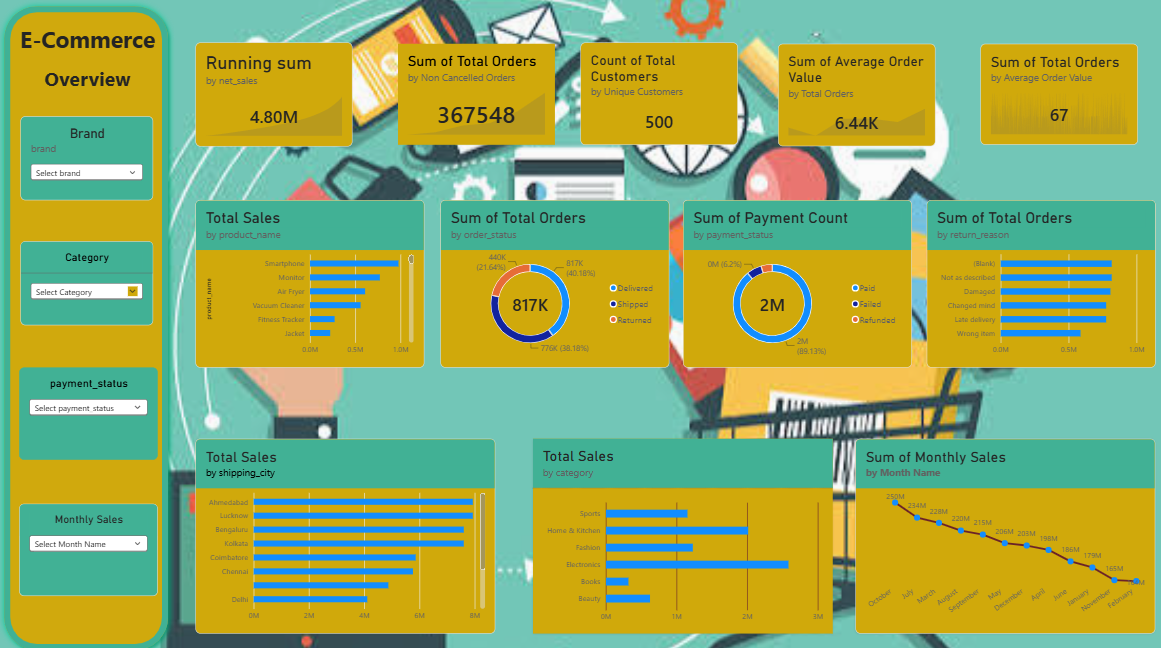

This screenshot's page, from the dashboard's own definition file:
{"tool":"powerbi","page":{"name":"Page 1","canvas":[1920,1080],"ordinal":0},"visuals":[{"type":"shape","box":[0,0,290.2,1080.6],"z":0},{"type":"kpi","fields":{"Indicator":["OrderItems.Total Sales","select"],"TrendLine":["OrderItems.net_sales"]},"box":[326,70,258.7,171],"z":1000},{"type":"kpi","fields":{"Indicator":["Sum(OrderItems.Total Orders)"],"TrendLine":["OrderItems.Non Cancelled Orders"]},"box":[658,72,258,166],"z":2000},{"type":"kpi","fields":{"Indicator":["CountNonNull(Customers.Total Customers)"],"TrendLine":["Customers.Unique Customers"]},"box":[960,70,259.3,168.8],"z":3000},{"type":"kpi","fields":{"Indicator":["Sum(OrderItems.Average Order Value)"],"TrendLine":["OrderItems.Total Orders"]},"box":[1284,72,259.3,168.8],"z":4000},{"type":"kpi","fields":{"Indicator":["Sum(OrderItems.Total Orders)"],"TrendLine":["OrderItems.Average Order Value"]},"box":[1617.5,72.5,259.3,166.7],"z":5000},{"type":"lineChart","fields":{"Category":["Orders.Month Name"],"Y":["Sum(Orders.Monthly Sales)"]},"box":[1412,722.5,494,321.1],"z":6000},{"type":"clusteredBarChart","fields":{"Category":["Ecommerce_Analysis_Dataset 1(Products).category"],"Y":["OrderItems.Total Sales"]},"box":[881,722.5,494,321.1],"z":7000},{"type":"clusteredBarChart","fields":{"Category":["Data_Quality_Practice.shipping_city"],"Y":["OrderItems.Total Sales"]},"box":[325.2,722.5,494,321.1],"z":8000},{"type":"clusteredBarChart","fields":{"Category":["Ecommerce_Analysis_Dataset 1(Products).product_name"],"Y":["OrderItems.Total Sales"]},"box":[325.2,329.3,376.7,275.8],"z":9000},{"type":"donutChart","fields":{"Category":["Data_Quality_Practice.order_status"],"Y":["Sum(OrderItems.Total Orders)"]},"box":[728.6,329.3,376.7,275.8],"z":10000},{"type":"clusteredBarChart","fields":{"Category":["Returns.return_reason"],"Y":["Sum(OrderItems.Total Orders)"]},"box":[1529.3,329.3,376.7,275.8],"z":11000},{"type":"donutChart","fields":{"Category":["Payments.payment_status"],"Y":["Sum(Payments.Payment Count)"]},"box":[1128,329.3,376.7,275.8],"z":12000},{"type":"textbox","box":[20,40,254,120],"z":13000},{"type":"listSlicer","title":"Category","fields":{"Values":["Products.product_name"]},"box":[38,398,218,138],"z":14000},{"type":"listSlicer","title":"Brand","fields":{"Values":["Products.brand"]},"box":[38,192,218,138],"z":15000},{"type":"listSlicer","fields":{"Values":["Payments.payment_status"]},"box":[34,606,228,152],"z":16000},{"type":"listSlicer","title":"Monthly Sales","fields":{"Values":["Orders.Month Name"]},"box":[34,830,228,152],"z":17000}]}

Visuals, with their boxes in screenshot pixels (x1, y1, x2, y2), scaled from the page's 1920x1080 canvas onto the 1161x648 screenshot:
shape: (x1=0, y1=0, x2=175, y2=647)
kpi - OrderItems.Total Sales x select: (x1=197, y1=42, x2=354, y2=145)
kpi - Sum(OrderItems.Total Orders) x OrderItems.Non Cancelled Orders: (x1=398, y1=43, x2=554, y2=143)
kpi - CountNonNull(Customers.Total Customers) x Customers.Unique Customers: (x1=580, y1=42, x2=737, y2=143)
kpi - Sum(OrderItems.Average Order Value) x OrderItems.Total Orders: (x1=776, y1=43, x2=933, y2=144)
kpi - Sum(OrderItems.Total Orders) x OrderItems.Average Order Value: (x1=978, y1=44, x2=1135, y2=144)
lineChart - Orders.Month Name x Sum(Orders.Monthly Sales): (x1=854, y1=434, x2=1153, y2=626)
clusteredBarChart - Ecommerce_Analysis_Dataset 1(Products).category x OrderItems.Total Sales: (x1=533, y1=434, x2=831, y2=626)
clusteredBarChart - Data_Quality_Practice.shipping_city x OrderItems.Total Sales: (x1=197, y1=434, x2=495, y2=626)
clusteredBarChart - Ecommerce_Analysis_Dataset 1(Products).product_name x OrderItems.Total Sales: (x1=197, y1=198, x2=424, y2=363)
donutChart - Data_Quality_Practice.order_status x Sum(OrderItems.Total Orders): (x1=441, y1=198, x2=668, y2=363)
clusteredBarChart - Returns.return_reason x Sum(OrderItems.Total Orders): (x1=925, y1=198, x2=1153, y2=363)
donutChart - Payments.payment_status x Sum(Payments.Payment Count): (x1=682, y1=198, x2=910, y2=363)
textbox: (x1=12, y1=24, x2=166, y2=96)
"Category" listSlicer: (x1=23, y1=239, x2=155, y2=322)
"Brand" listSlicer: (x1=23, y1=115, x2=155, y2=198)
listSlicer - Payments.payment_status: (x1=21, y1=364, x2=158, y2=455)
"Monthly Sales" listSlicer: (x1=21, y1=498, x2=158, y2=589)
